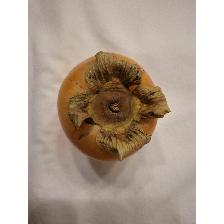Kaki: (52, 48, 174, 166)
